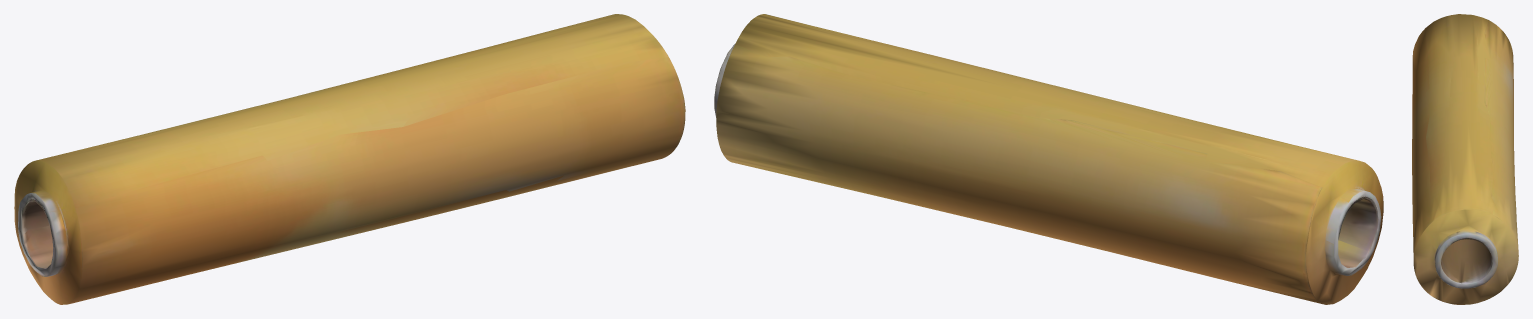
Rendered from react-plastic_wrap-HYOCJNC_.glb.
The picture shows the model from 3 angles, left to right: view 1: azimuth 30°, elevation 25°; view 2: azimuth 150°, elevation 25°; view 3: azimuth 270°, elevation 25°; orthographic projection. The views are drawn at different scales.
Visible parts, largest first — view 1: Meshy_texture_pbr_v128; view 2: Meshy_texture_pbr_v128; view 3: Meshy_texture_pbr_v128.
Boxes of the visible parts, <box> form: Meshy_texture_pbr_v128: <box>14,14,685,304</box>; Meshy_texture_pbr_v128: <box>714,14,1383,304</box>; Meshy_texture_pbr_v128: <box>1412,14,1518,304</box>.
Size of the model in its own units: 0.2553 by 0.0534 by 0.0546.
Materials: 1 (1 with a texture image).
